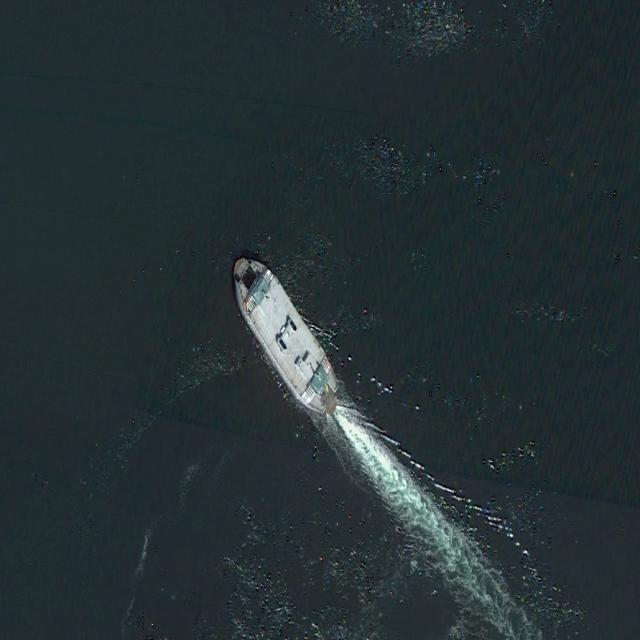RoRo: (221, 237, 349, 434)
